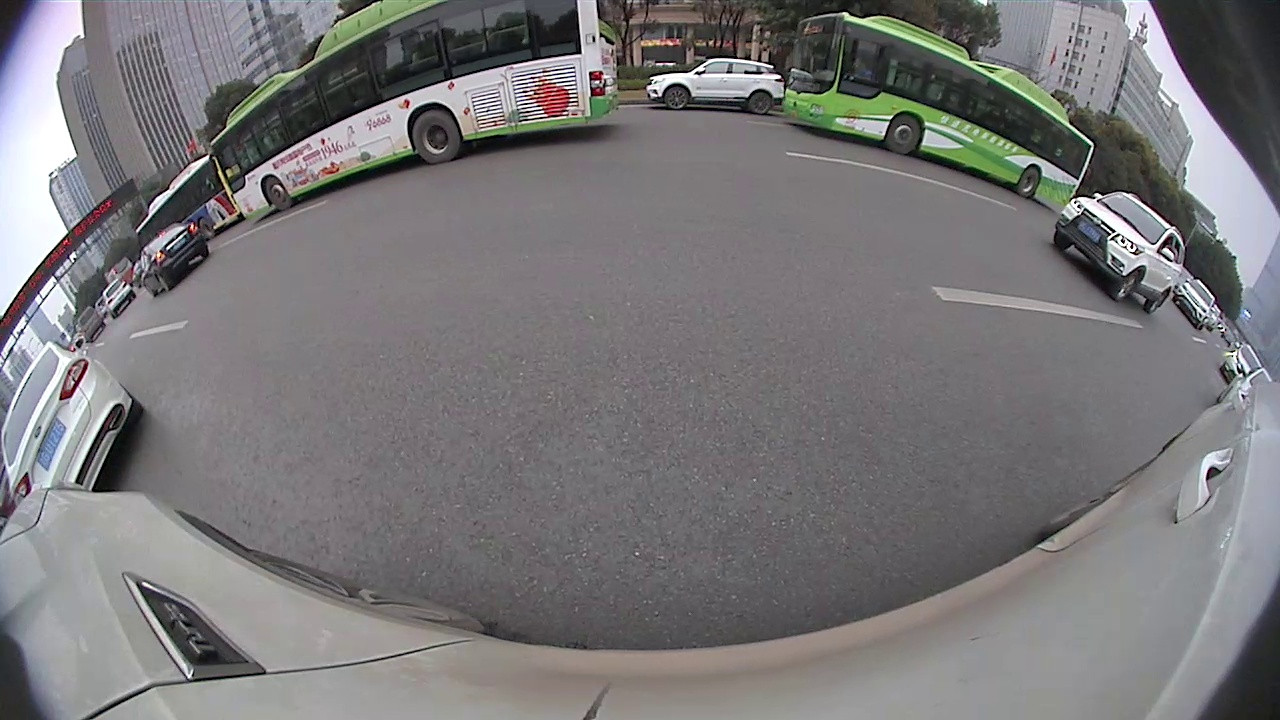bus: (208, 2, 621, 233), (777, 11, 1098, 217)
car: (2, 339, 145, 509), (1050, 186, 1189, 315), (643, 52, 790, 115), (136, 217, 210, 296)
front: (883, 113, 923, 153), (263, 176, 293, 213), (1113, 269, 1142, 303), (663, 85, 690, 112)
rear: (410, 111, 463, 166), (1015, 164, 1041, 199), (748, 90, 773, 115)
